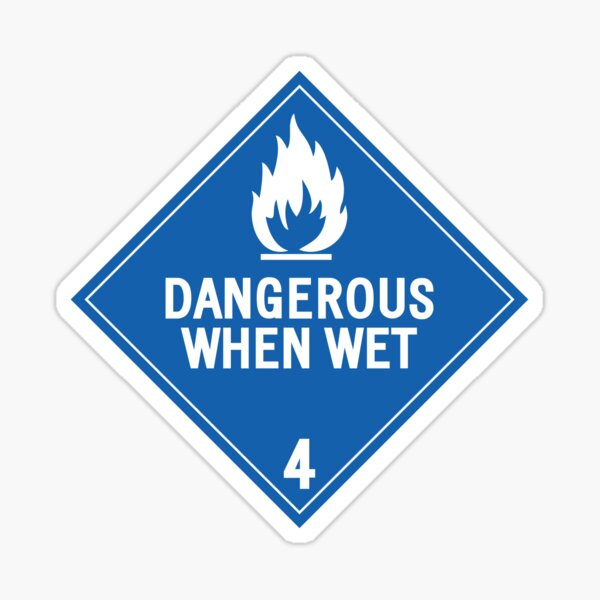Dangerous when wet: (55, 55, 544, 543)
